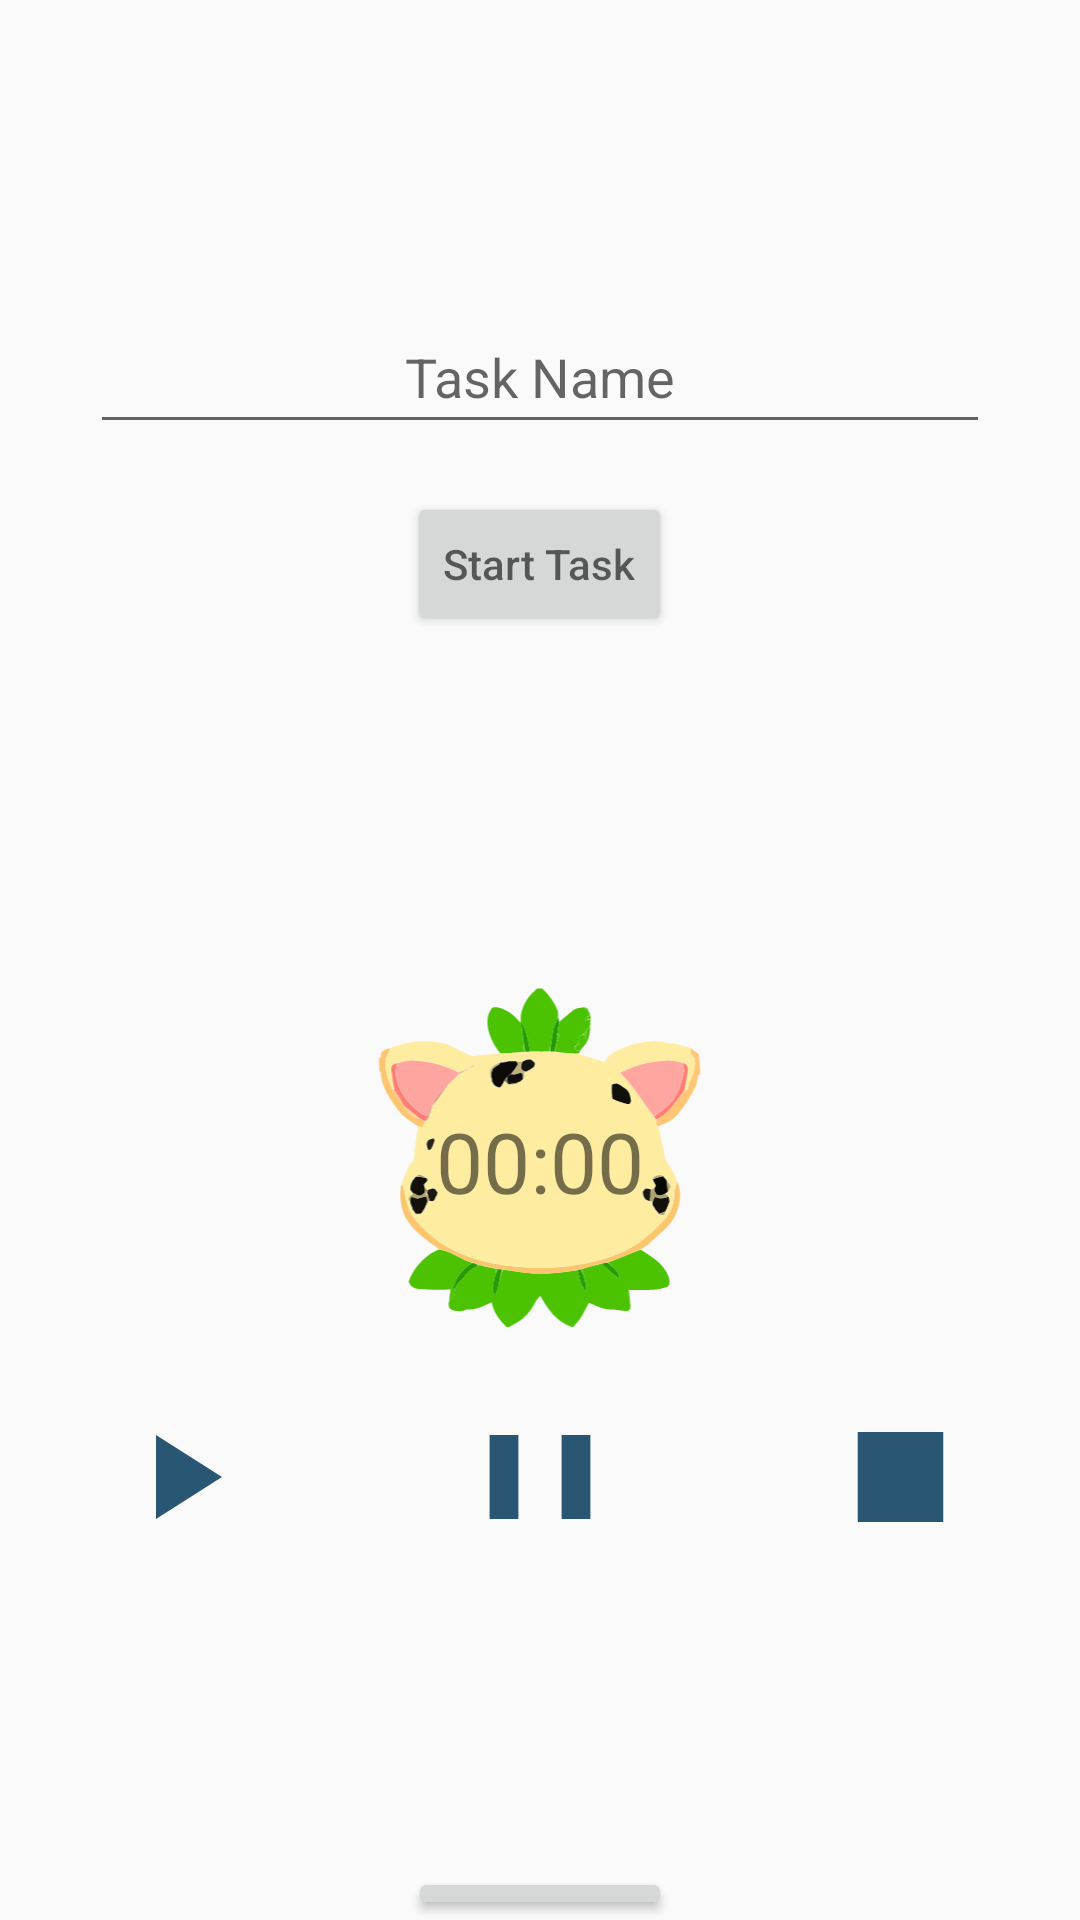

Icon bounding boxes for this 1080w x 1920h phone screenshot, format (left=x1, top=y1, right=x2, bottom=y2):
Pause Button: (left=489, top=1435, right=591, bottom=1519)
Start Work Button: (left=156, top=1435, right=222, bottom=1519)
Stop Work Button: (left=857, top=1432, right=944, bottom=1522)
